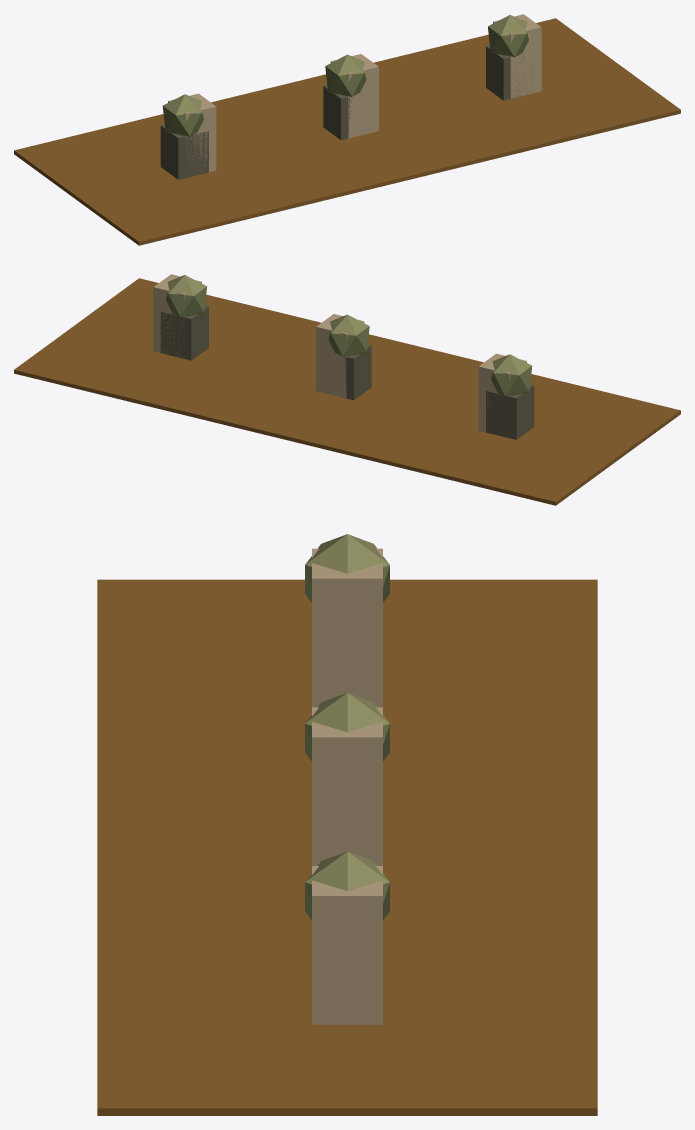
The model's file is SM_Naranjos_v0_Plantones_LOD1.fbx.
3 renders of one model, top to bottom at view 1: azimuth 30°, elevation 25°; view 2: azimuth 150°, elevation 25°; view 3: azimuth 270°, elevation 25°, orthographic. The views are drawn at different scales.
Parts seen in each view (by area): view 1: SM_viveres_nules_v0_LOD1; view 2: SM_viveres_nules_v0_LOD1; view 3: SM_viveres_nules_v0_LOD1.
Boxes of the visible parts, x1,y1,x2,y2 form: SM_viveres_nules_v0_LOD1: (14, 14, 680, 245); SM_viveres_nules_v0_LOD1: (14, 274, 680, 505); SM_viveres_nules_v0_LOD1: (97, 534, 597, 1115).
Bounding box in the file's own units: 6 × 0.84 × 2.4.
